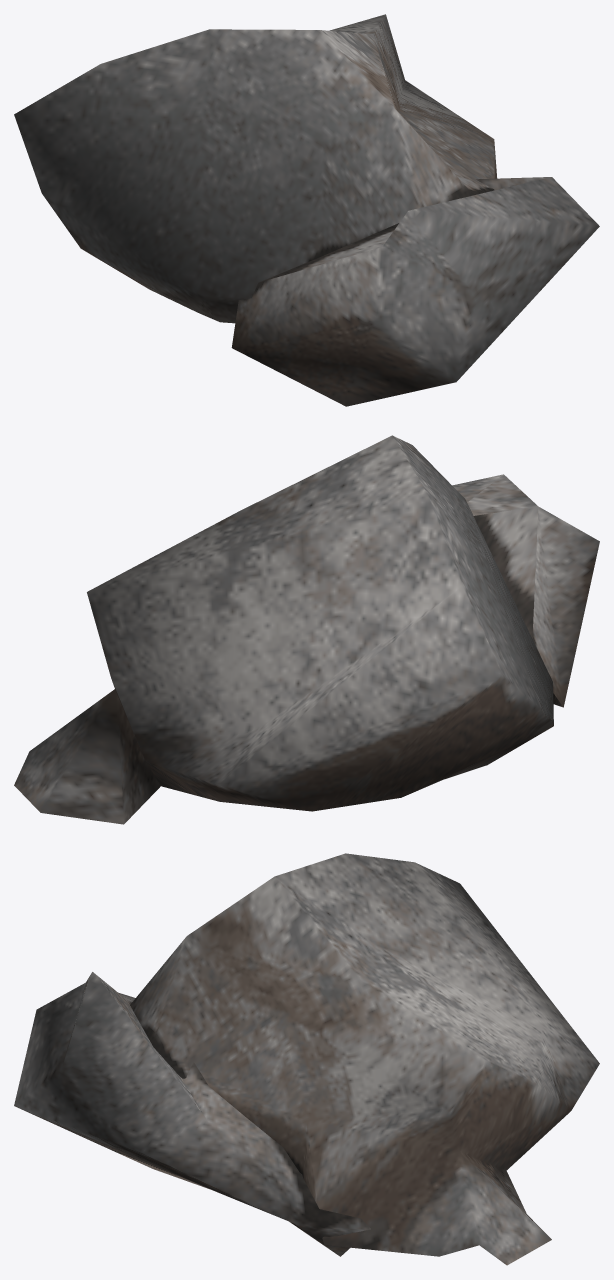
Rendered from forest_rock_6.glb.
3 views of the same model, one above another, from view 1: azimuth 30°, elevation 25°; view 2: azimuth 150°, elevation 25°; view 3: azimuth 270°, elevation 25° (orthographic). The views are drawn at different scales.
Parts seen in each view (by area): view 1: Rocks.006_Rocks_0; view 2: Rocks.006_Rocks_0; view 3: Rocks.006_Rocks_0.
Boxes of the visible parts, x1,y1,x2,y2 form: Rocks.006_Rocks_0: (14, 14, 599, 406); Rocks.006_Rocks_0: (14, 435, 599, 824); Rocks.006_Rocks_0: (14, 853, 599, 1265).
Size of the model in its own units: 2.42 by 1.65 by 2.95.
Materials: 1 (1 with a texture image).
